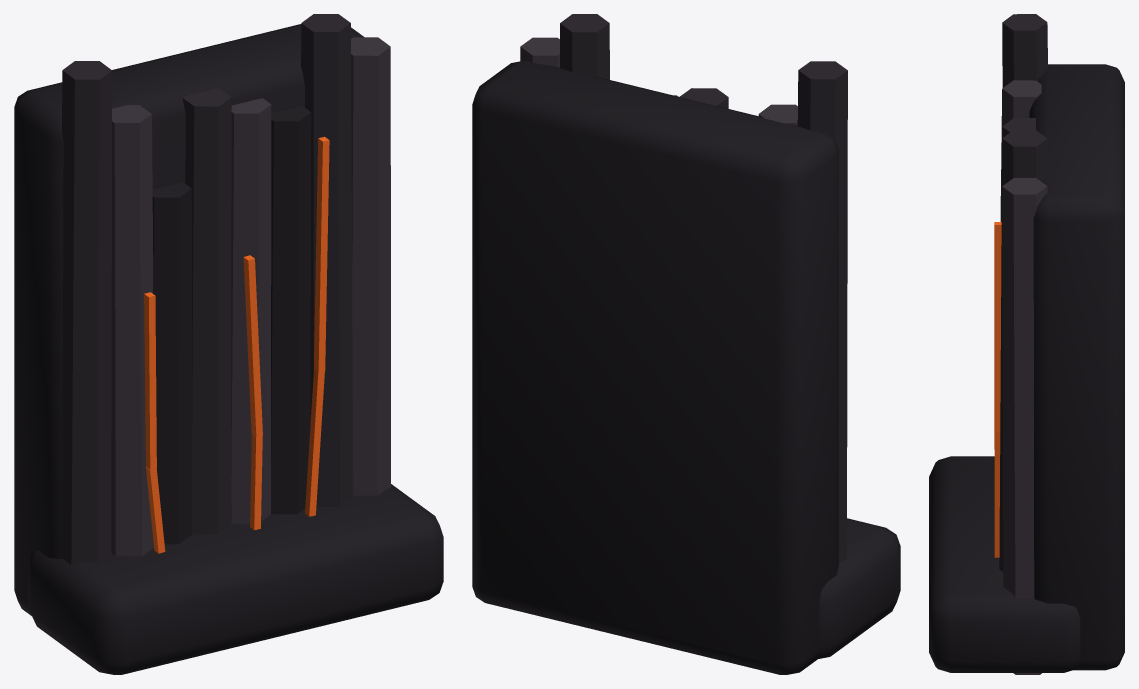
File: LavaCliff.fbx
The picture shows the model from 3 angles, left to right: view 1: azimuth 30°, elevation 25°; view 2: azimuth 150°, elevation 25°; view 3: azimuth 270°, elevation 25°; orthographic projection. The views are drawn at different scales.
Parts seen in each view (by area): view 1: Frame, Lava; view 2: Frame; view 3: Frame, Lava.
Part boxes in pixels (x1,y1,x2,y2): Frame: [14, 14, 443, 674]; Lava: [144, 136, 329, 553]; Frame: [472, 14, 900, 674]; Frame: [929, 14, 1124, 674]; Lava: [994, 222, 1001, 557].
Bounding box in the file's own units: 2.1 × 3.3 × 1.13.
1 material, 1 textured.
